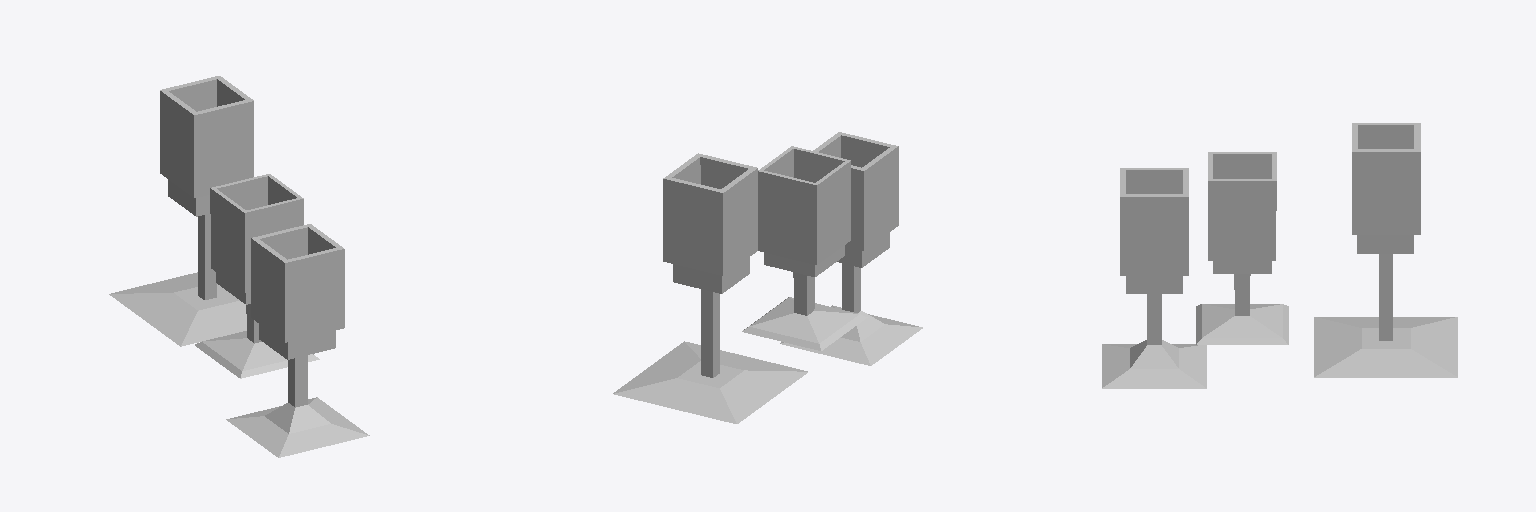
Rendered from glass.obj.
3 renders of one model, left to right at view 1: azimuth 30°, elevation 25°; view 2: azimuth 150°, elevation 25°; view 3: azimuth 270°, elevation 25°, orthographic.
Visible parts, largest first — view 1: Plane.002, Plane.003, Plane; view 2: Plane.002, Plane, Plane.003; view 3: Plane.002, Plane.003, Plane.
Part boxes in pixels (bbox=[...]): Plane.002: bbox=[109, 76, 253, 346]; Plane.003: bbox=[226, 224, 369, 457]; Plane: bbox=[195, 174, 319, 378]; Plane.002: bbox=[613, 153, 807, 423]; Plane: bbox=[742, 146, 867, 350]; Plane.003: bbox=[780, 132, 922, 365]; Plane.002: bbox=[1314, 123, 1457, 377]; Plane.003: bbox=[1102, 168, 1206, 388]; Plane: bbox=[1196, 152, 1288, 344].
Bounding box in the file's own units: 6.26 × 10.82 × 14.5.